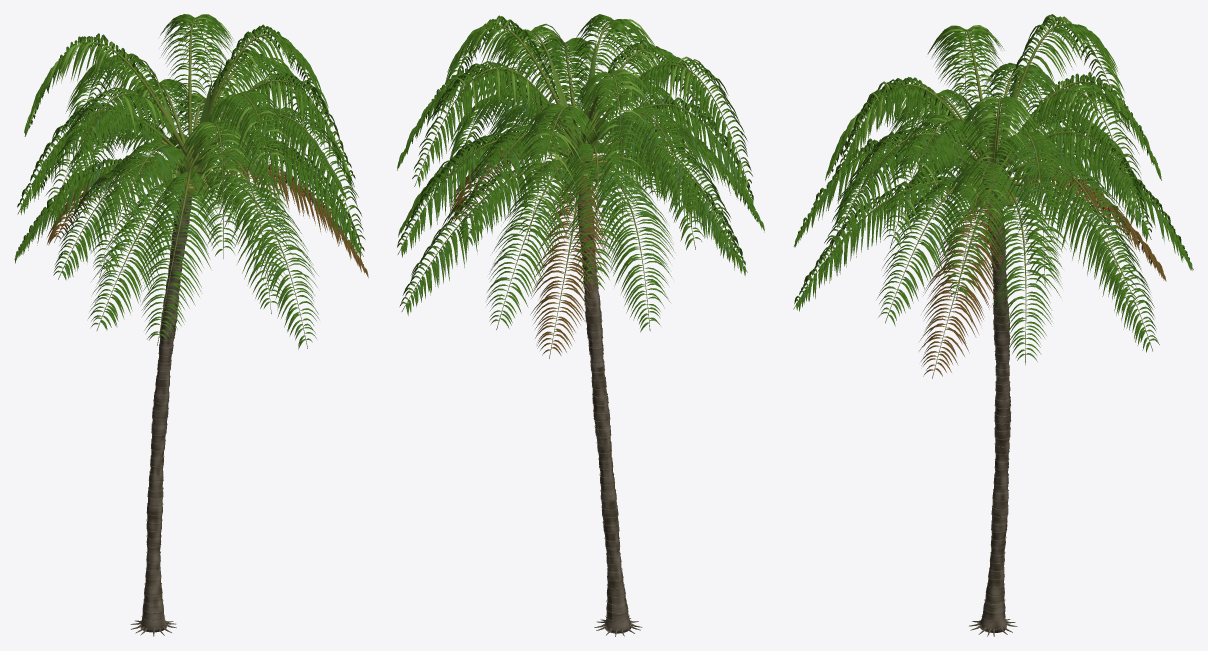
Rendered from KL_LS_Coconut_Tall_A.gltf.
The picture shows the model from 3 angles, left to right: view 1: azimuth 30°, elevation 25°; view 2: azimuth 150°, elevation 25°; view 3: azimuth 270°, elevation 25°; orthographic projection. The views are drawn at different scales.
Visible parts, largest first — view 1: TF3_KL_LS_Coconut_Tall_A; view 2: TF3_KL_LS_Coconut_Tall_A; view 3: TF3_KL_LS_Coconut_Tall_A.
Boxes of the visible parts, <box> form: TF3_KL_LS_Coconut_Tall_A: <box>14,14,368,636</box>; TF3_KL_LS_Coconut_Tall_A: <box>397,14,764,636</box>; TF3_KL_LS_Coconut_Tall_A: <box>793,14,1193,636</box>.
Bounding box in the file's own units: 8.47 × 14.77 × 9.04.
Materials: 9 (3 with a texture image).
